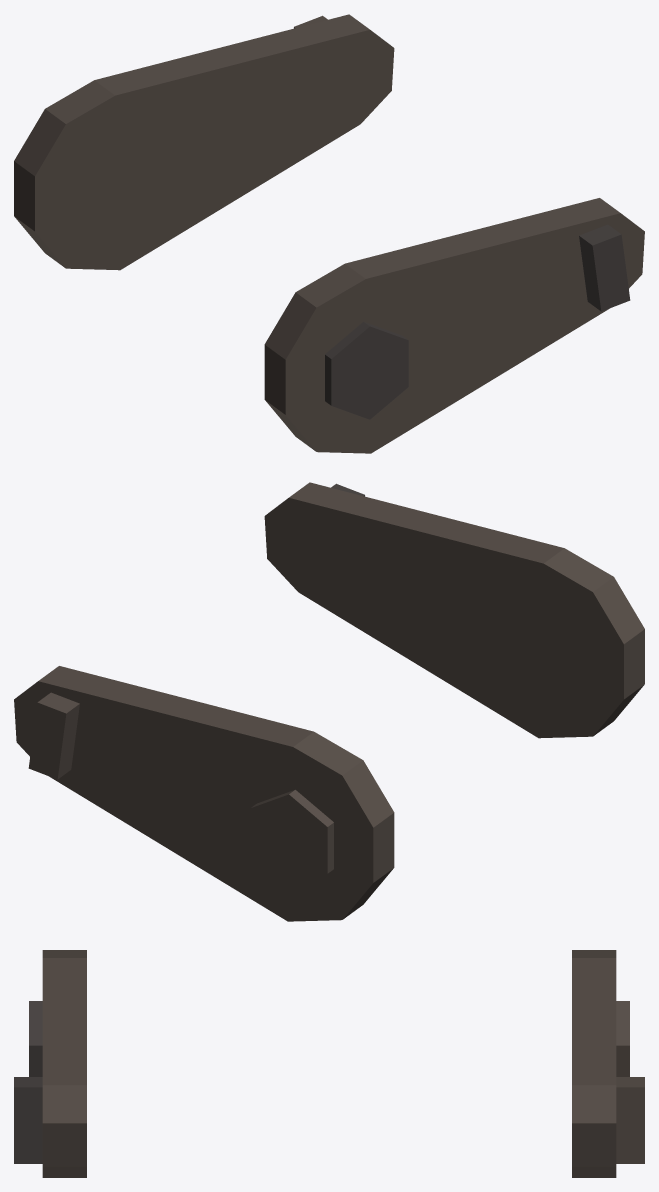
Rendered from Pistol3_06_4.fbx.
3 views of the same model, one above another, from view 1: azimuth 30°, elevation 25°; view 2: azimuth 150°, elevation 25°; view 3: azimuth 270°, elevation 25° (orthographic). The views are drawn at different scales.
Visible parts, largest first — view 1: Pistol3_06_4; view 2: Pistol3_06_4; view 3: Pistol3_06_4.
Part boxes in pixels (bbox=[...]): Pistol3_06_4: bbox=[14, 14, 644, 453]; Pistol3_06_4: bbox=[14, 482, 644, 921]; Pistol3_06_4: bbox=[14, 950, 644, 1177].
Size of the model in its own units: 0.0373 by 0.0178 by 0.0538.
